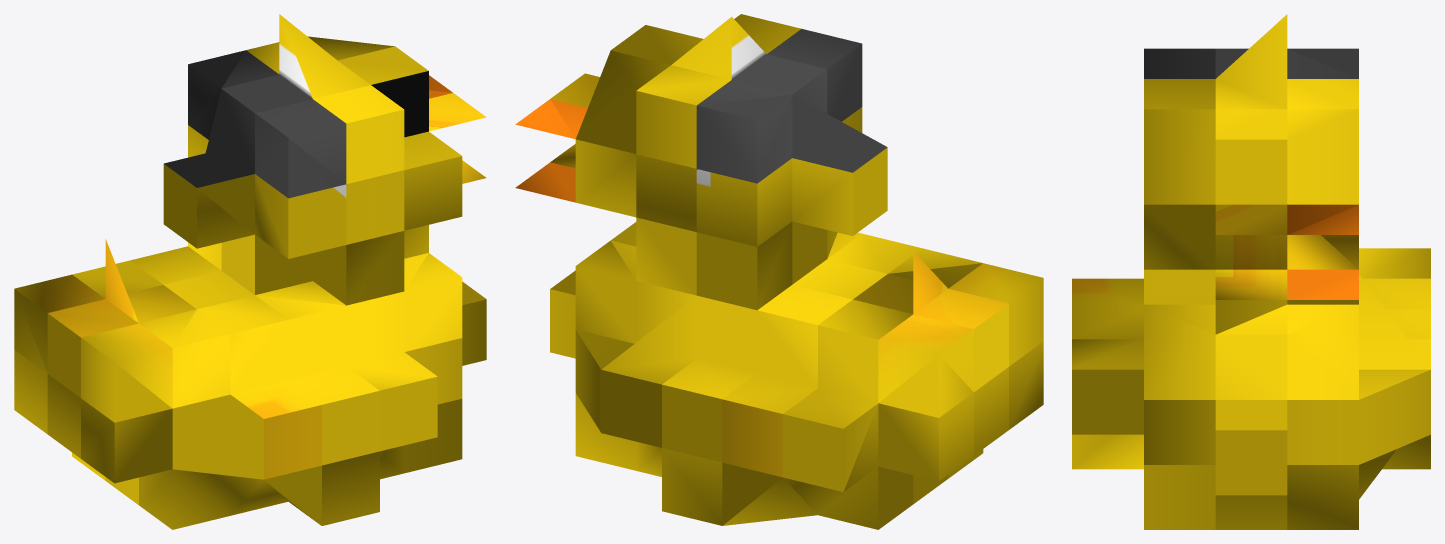
Rendered from Duck-vp-3-vt-3-vn-3.glb.
The picture shows the model from 3 angles, left to right: view 1: azimuth 30°, elevation 25°; view 2: azimuth 150°, elevation 25°; view 3: azimuth 270°, elevation 25°; orthographic projection. The views are drawn at different scales.
Bounding box in the file's own units: 1.65 × 1.65 × 1.18.
Materials: 1 (1 with a texture image).
